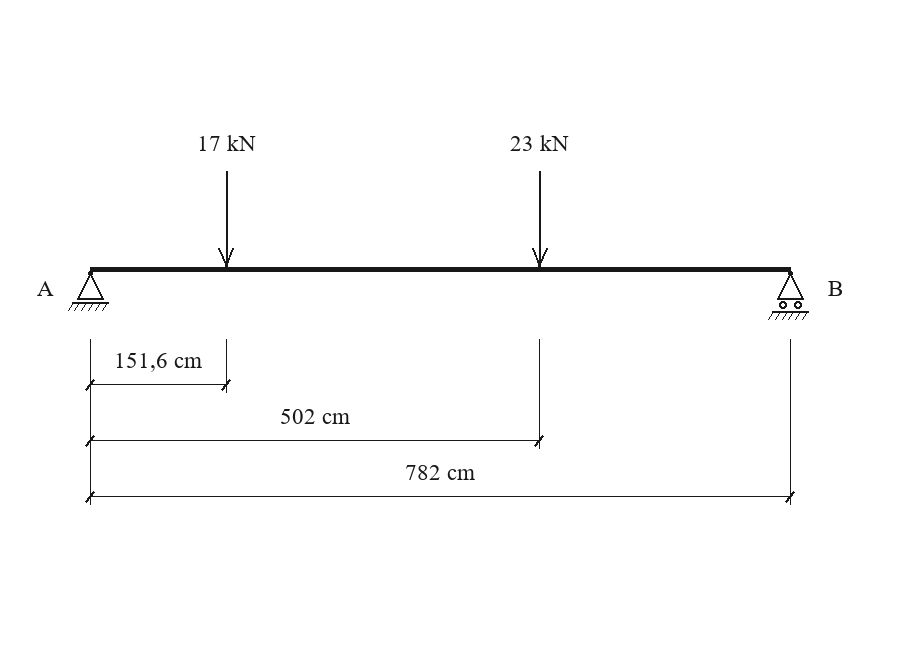pin_support: (68, 271, 109, 311)
point_load: (218, 171, 234, 267), (532, 171, 548, 267)
roller_support: (768, 271, 809, 320)
